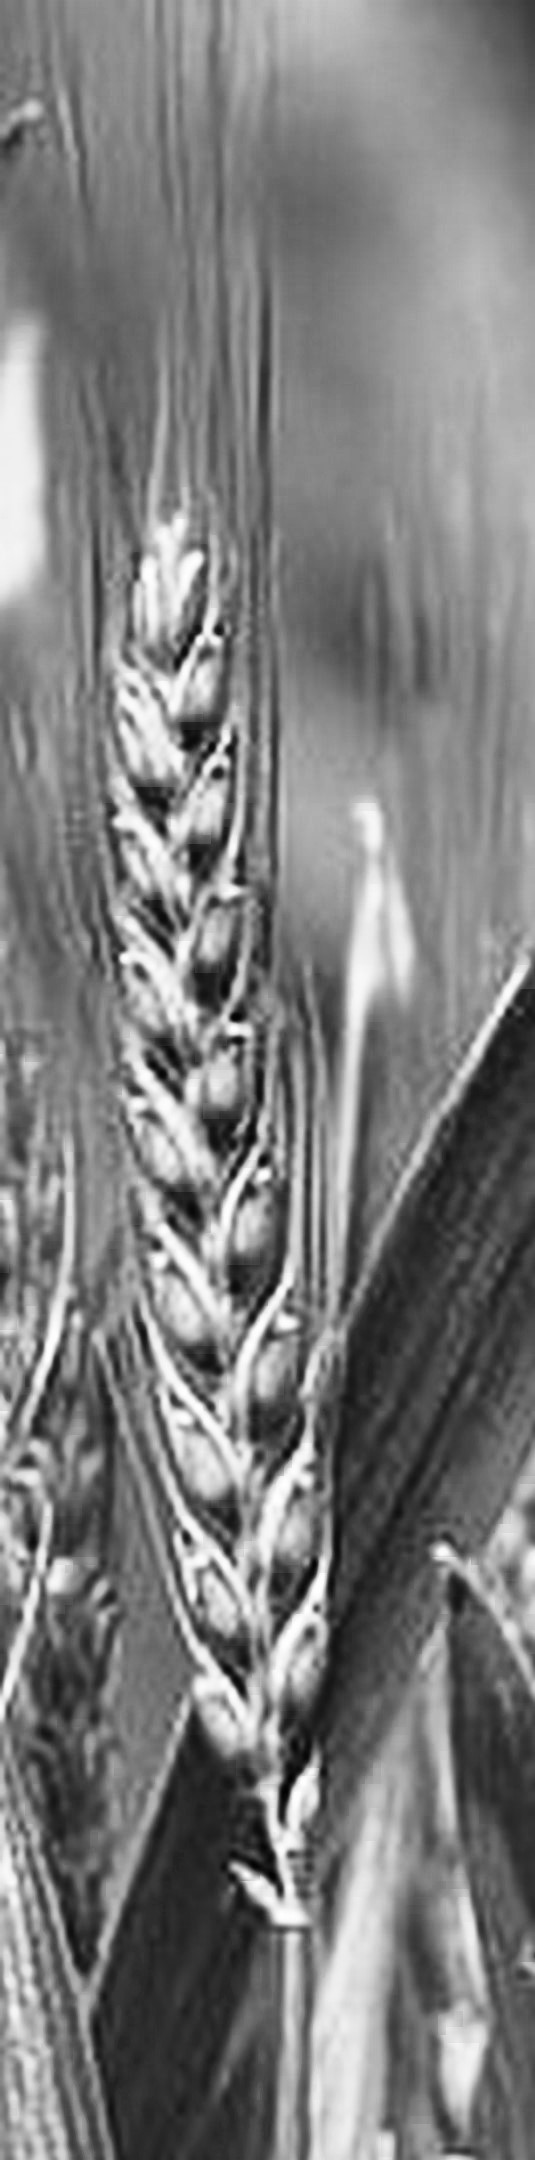Healthy Wheat: (66, 459, 361, 1807)
